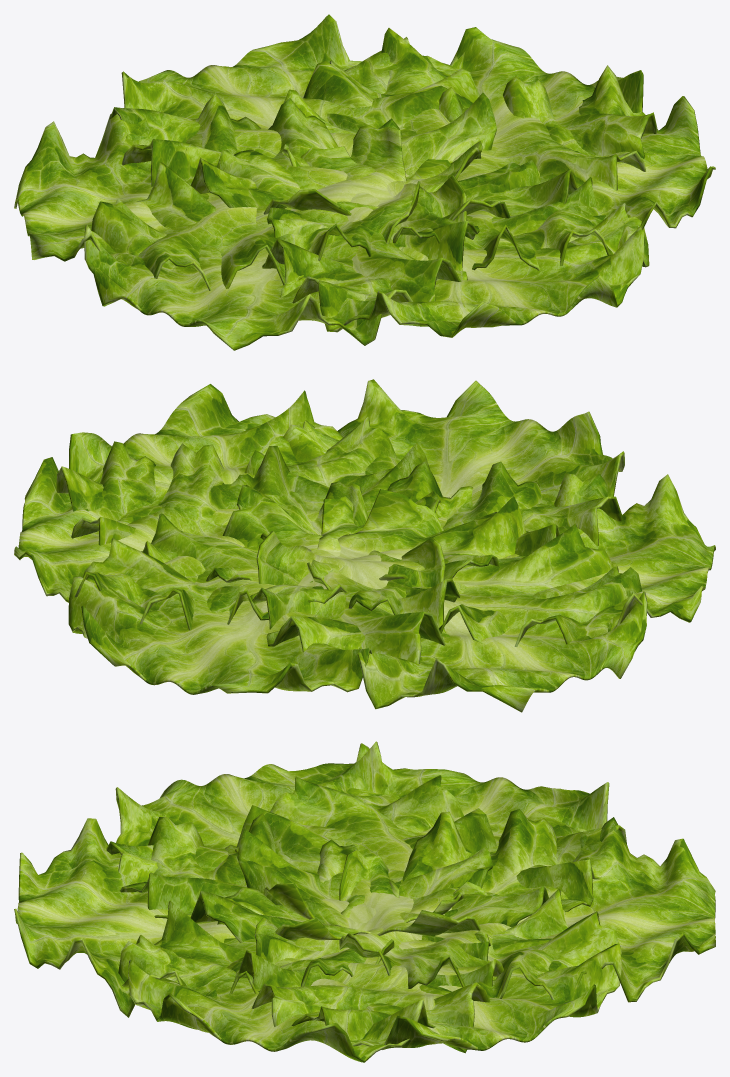
The model's file is lettuce.glb.
3 views of the same model, one above another, from view 1: azimuth 30°, elevation 25°; view 2: azimuth 150°, elevation 25°; view 3: azimuth 270°, elevation 25° (orthographic).
Parts seen in each view (by area): view 1: Lettuce leaf 3, Lettuce leaf 1, Lettuce leaf 2, Lettuce leaf 4, Lettuce leaf 6, Lettuce leaf 5; view 2: Lettuce leaf 2, Lettuce leaf 1, Lettuce leaf 4, Lettuce leaf 6, Lettuce leaf 3, Lettuce leaf 5; view 3: Lettuce leaf 1, Lettuce leaf 2, Lettuce leaf 3, Lettuce leaf 6, Lettuce leaf 4, Lettuce leaf 5.
Part boxes in pixels (x1,y1,x2,y2): Lettuce leaf 3: [84, 146, 479, 350]; Lettuce leaf 1: [109, 14, 496, 215]; Lettuce leaf 2: [14, 93, 420, 290]; Lettuce leaf 4: [262, 159, 649, 337]; Lettuce leaf 6: [282, 27, 657, 220]; Lettuce leaf 5: [378, 65, 715, 270]; Lettuce leaf 2: [250, 489, 647, 712]; Lettuce leaf 1: [68, 500, 460, 694]; Lettuce leaf 4: [236, 379, 624, 580]; Lettuce leaf 6: [14, 441, 367, 630]; Lettuce leaf 3: [307, 461, 715, 646]; Lettuce leaf 5: [56, 384, 440, 582]; Lettuce leaf 1: [339, 809, 715, 1002]; Lettuce leaf 2: [235, 743, 626, 936]; Lettuce leaf 3: [106, 741, 496, 943]; Lettuce leaf 6: [238, 881, 621, 1050]; Lettuce leaf 4: [14, 813, 399, 1017]; Lettuce leaf 5: [118, 887, 503, 1062].
Bounding box in the file's own units: 2.52 × 0.307 × 2.53.
1 material, 1 textured.
